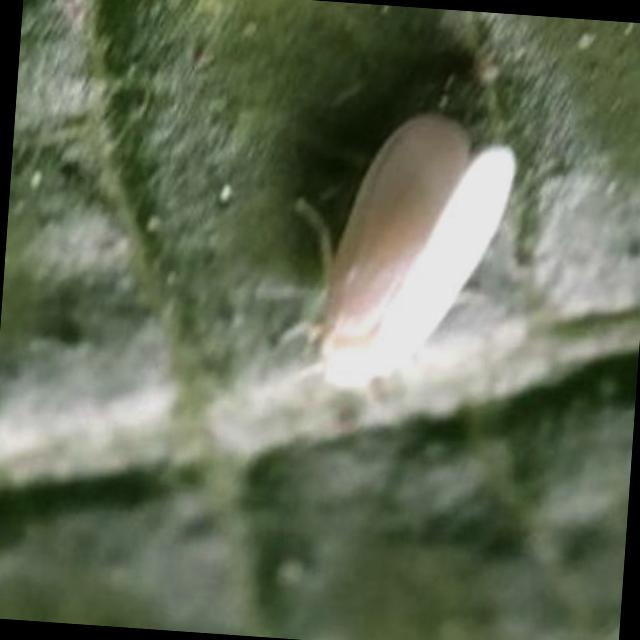Silverleaf whitefly: (256, 94, 524, 428)
